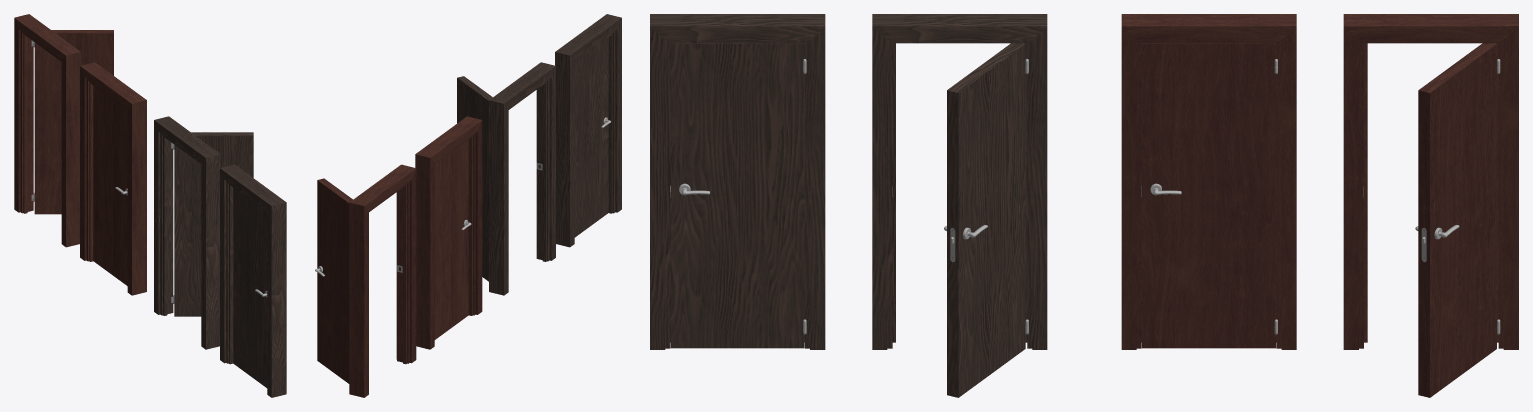
The picture shows the model from 3 angles, left to right: view 1: azimuth 30°, elevation 25°; view 2: azimuth 150°, elevation 25°; view 3: azimuth 270°, elevation 25°; orthographic projection. The views are drawn at different scales.
Visible parts, largest first — view 1: D2-Preview, D1-Preview, D2-Frame, D1-Frame, D2-Door, D1-Door; view 2: D1-Preview, D2-Preview, D2-Frame, D1-Frame, D2-Door, D1-Door; view 3: D1-Preview, D2-Preview, D1-Door, D2-Door, D1-Frame, D2-Frame.
Part boxes in pixels (x1=…): D2-Preview: x1=154, y1=116, x2=253, y2=349; D1-Preview: x1=14, y1=14, x2=113, y2=247; D2-Frame: x1=80, y1=62, x2=146, y2=295; D1-Frame: x1=220, y1=164, x2=286, y2=397; D2-Door: x1=93, y1=85, x2=127, y2=285; D1-Door: x1=233, y1=188, x2=267, y2=387; D1-Preview: x1=315, y1=164, x2=416, y2=397; D2-Preview: x1=457, y1=62, x2=555, y2=295; D2-Frame: x1=415, y1=116, x2=482, y2=349; D1-Frame: x1=555, y1=14, x2=621, y2=247; D2-Door: x1=434, y1=140, x2=471, y2=339; D1-Door: x1=574, y1=37, x2=610, y2=237; D1-Preview: x1=1343, y1=14, x2=1518, y2=397; D2-Preview: x1=872, y1=14, x2=1047, y2=397; D1-Door: x1=670, y1=43, x2=806, y2=348; D2-Door: x1=1142, y1=43, x2=1277, y2=348; D1-Frame: x1=650, y1=14, x2=825, y2=349; D2-Frame: x1=1121, y1=14, x2=1296, y2=349.
Bounding box in the file's own units: 2.13 × 5.3 × 12.9.
Materials: 2 (2 with a texture image).
